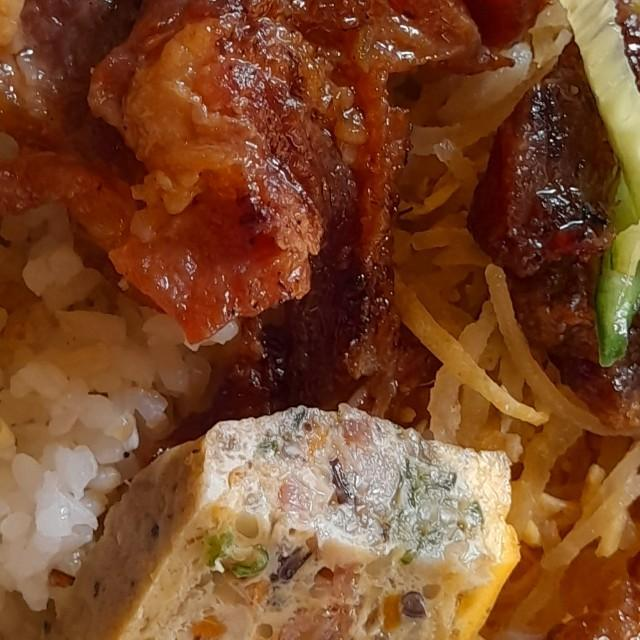bi: (346, 45, 640, 640)
com: (0, 190, 243, 640)
com suon bi trung: (0, 0, 640, 640)
suon: (0, 0, 556, 470), (471, 0, 640, 640)
trung: (0, 401, 525, 640)
